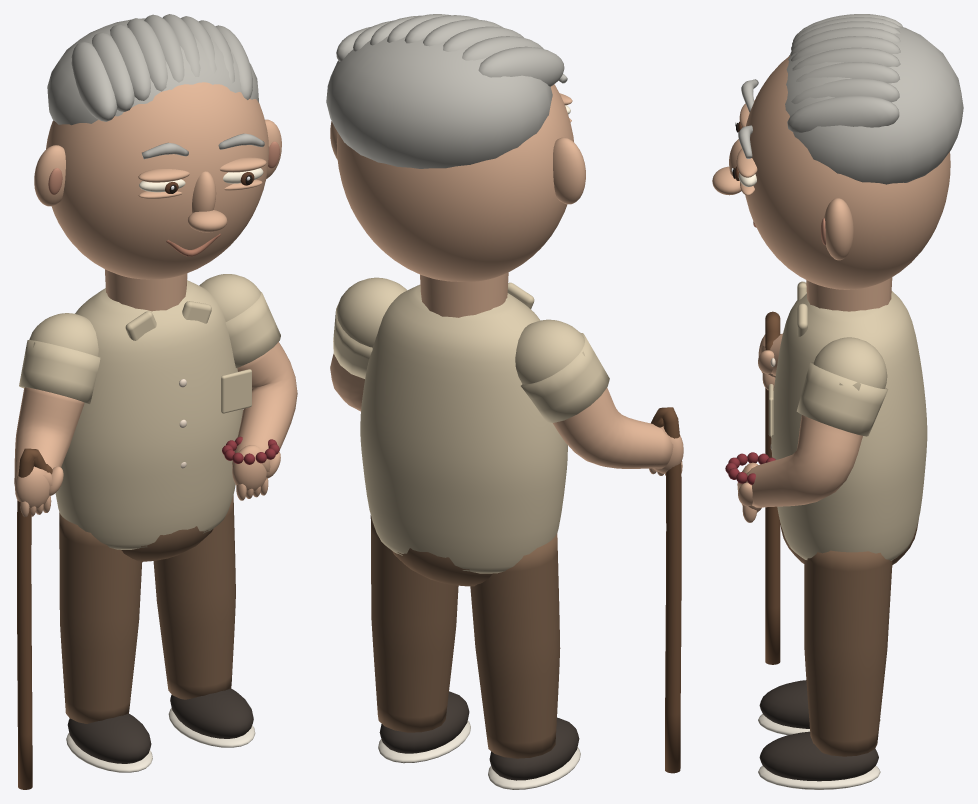
File: grandpa.glb
3 renders of one model, left to right at view 1: azimuth 30°, elevation 25°; view 2: azimuth 150°, elevation 25°; view 3: azimuth 270°, elevation 25°, orthographic. The views are drawn at different scales.
Visible parts, largest first — view 1: Torso, SculptedHead, TrouserLeg, TrouserLeg.001, Cane, BackHair, Arm.001, Arm, ShortSleeve, Shoe, Shoe.001, Neck (+25 smaller); view 2: Torso, SculptedHead, BackHair, TrouserLeg, TrouserLeg.001, Cane, Arm, ShortSleeve, ShoulderCap, Neck, ShoulderCap.001, Shoe (+12 smaller); view 3: Torso, SculptedHead, TrouserLeg.001, BackHair, Arm.001, ShortSleeve.001, Shoe.001, Cane, SweptSilverHair.008, ShoulderCap.001, Neck, Shoe (+10 smaller).
Part boxes in pixels (x1,y1,x2,y2): Torso: (55,280,242,549); SculptedHead: (46,82,268,279); TrouserLeg: (59,512,142,723); TrouserLeg.001: (153,495,235,699); Cane: (17,448,52,789); BackHair: (47,18,258,125); Arm.001: (232,342,297,472); Arm: (14,387,84,486); ShortSleeve: (19,340,100,404); Shoe: (67,714,151,763); Shoe.001: (170,688,253,738); Neck: (105,269,187,311); Torso: (360,284,567,573); SculptedHead: (336,84,573,281); BackHair: (326,36,552,168); TrouserLeg: (470,533,560,758); TrouserLeg.001: (370,515,458,732); Cane: (651,407,681,773); Arm: (553,387,673,468); ShortSleeve: (521,332,609,422); ShoulderCap: (515,319,584,384); Neck: (420,272,508,317); ShoulderCap.001: (337,277,407,347); Shoe: (489,717,579,780); Torso: (771,291,927,560); SculptedHead: (745,55,950,289); TrouserLeg.001: (804,550,892,756); BackHair: (785,26,963,184); Arm.001: (737,415,862,507); ShortSleeve.001: (796,362,888,436); Shoe.001: (759,731,878,781); Cane: (765,311,780,664); SweptSilverHair.008: (787,95,899,132); ShoulderCap.001: (813,337,887,390); Neck: (806,277,892,311); Shoe: (759,680,809,728).
Bounding box in the file's own units: 1.09 × 2.42 × 0.7571.
